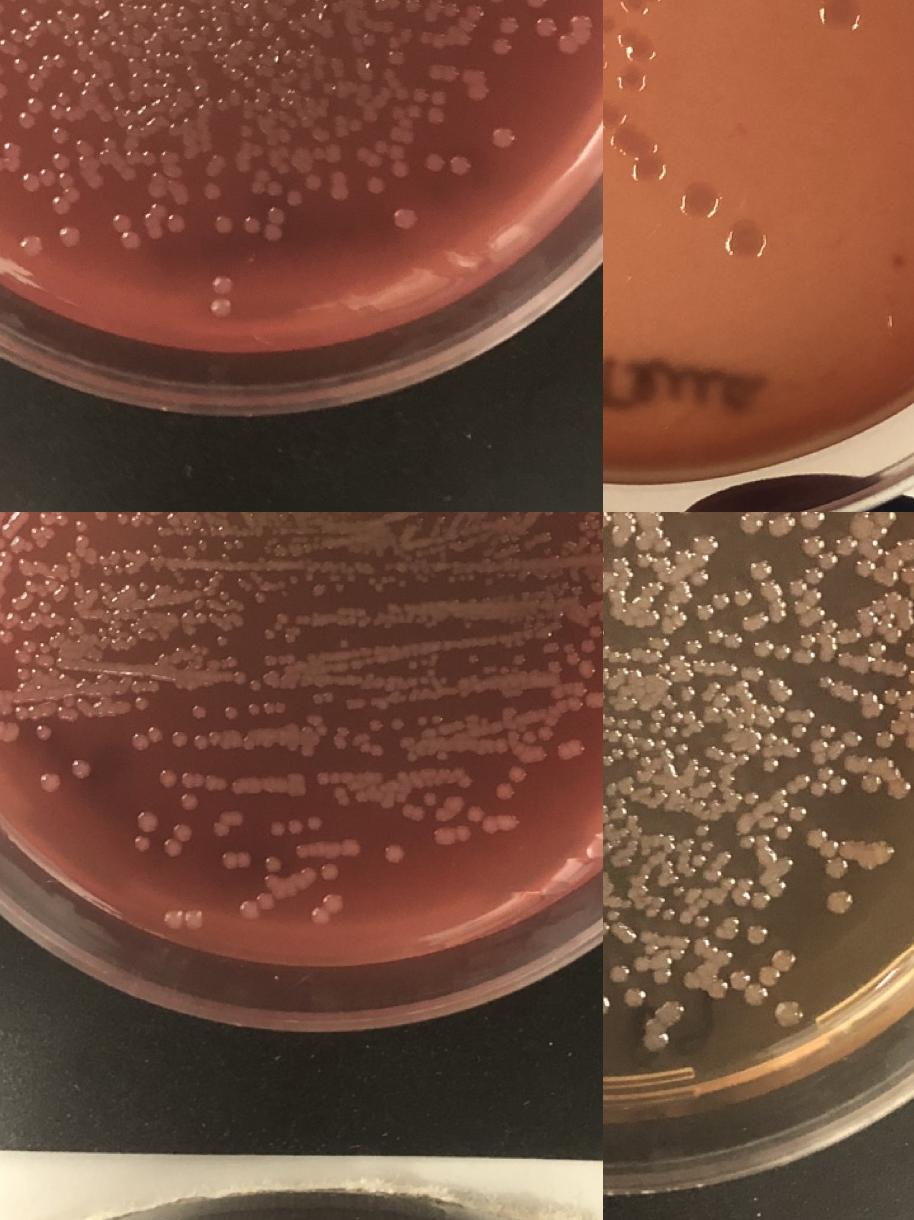sinniae: (798, 531, 914, 587), (741, 948, 800, 1008), (628, 706, 688, 750), (603, 961, 652, 1011), (794, 766, 848, 798), (857, 773, 914, 802), (710, 588, 756, 610), (774, 1000, 809, 1026), (824, 890, 858, 916), (704, 628, 744, 650), (737, 512, 772, 537), (753, 638, 792, 660), (800, 824, 830, 850), (839, 725, 867, 752), (823, 854, 852, 880), (747, 556, 775, 582), (870, 728, 898, 754), (743, 922, 771, 948), (719, 873, 755, 893), (693, 824, 717, 851), (626, 748, 652, 768), (798, 512, 826, 529), (869, 512, 897, 529), (867, 637, 889, 658), (882, 685, 904, 705), (749, 891, 771, 911), (786, 805, 810, 823), (603, 747, 624, 767), (682, 637, 704, 656), (632, 552, 654, 570), (647, 634, 669, 652), (742, 664, 764, 682), (716, 848, 734, 867), (603, 992, 616, 1018), (679, 684, 697, 702), (712, 691, 730, 709), (790, 722, 808, 740), (820, 722, 838, 740), (764, 756, 782, 774), (610, 804, 628, 822), (774, 823, 792, 841), (754, 610, 770, 628), (603, 779, 619, 797), (903, 728, 914, 754), (670, 884, 688, 899), (743, 791, 761, 805), (738, 834, 756, 848), (690, 854, 708, 868), (604, 908, 622, 922), (692, 914, 710, 928), (661, 908, 678, 922), (675, 744, 689, 758), (698, 766, 712, 780), (603, 912, 611, 935), (692, 720, 704, 734), (603, 727, 610, 741)
tmaritimum: (617, 30, 656, 95), (680, 181, 720, 221), (726, 222, 764, 262), (820, 0, 859, 32), (634, 156, 664, 187), (611, 127, 639, 153), (621, 0, 661, 14), (603, 102, 620, 131), (603, 17, 613, 32)
vangil: (372, 630, 524, 672), (243, 206, 286, 242), (445, 4, 484, 41), (374, 142, 410, 179), (559, 14, 592, 54), (247, 167, 286, 199), (111, 214, 142, 252), (164, 824, 191, 857), (312, 894, 342, 922), (130, 727, 164, 751), (213, 811, 244, 837), (568, 654, 598, 680), (463, 68, 487, 100), (428, 89, 448, 126), (483, 814, 517, 833), (328, 170, 348, 202), (234, 670, 262, 692), (247, 701, 288, 716), (220, 851, 251, 870), (427, 64, 459, 82), (557, 740, 584, 760), (40, 601, 62, 624), (182, 540, 211, 556), (454, 766, 473, 789), (130, 680, 160, 694), (50, 126, 70, 146), (3, 140, 23, 160), (424, 154, 444, 174), (203, 159, 223, 179), (367, 176, 387, 196), (286, 189, 306, 209), (50, 196, 70, 216), (395, 208, 415, 228), (168, 214, 188, 234), (59, 226, 79, 246), (24, 234, 44, 254), (214, 275, 234, 295), (334, 786, 352, 808), (20, 173, 40, 192), (203, 183, 223, 202), (212, 298, 231, 318), (0, 722, 19, 742), (214, 214, 232, 234), (35, 725, 53, 744), (42, 772, 60, 791), (586, 690, 603, 710), (0, 0, 21, 16), (70, 11, 88, 29), (536, 18, 554, 36), (12, 57, 30, 75), (26, 74, 44, 92), (494, 128, 512, 146), (452, 156, 470, 174), (192, 734, 210, 752), (72, 760, 90, 778), (160, 769, 178, 787), (420, 790, 438, 808), (400, 804, 418, 822), (435, 828, 453, 846), (240, 900, 258, 918), (166, 911, 184, 929), (186, 911, 204, 929), (330, 57, 344, 80), (140, 812, 156, 832), (501, 18, 518, 36), (493, 38, 511, 55), (18, 4, 34, 22), (0, 628, 16, 646), (311, 692, 335, 704), (192, 704, 208, 722), (224, 704, 240, 722), (171, 730, 187, 748), (134, 696, 150, 713), (180, 772, 196, 789), (387, 847, 403, 864), (180, 794, 196, 810), (269, 820, 285, 836), (289, 820, 305, 836), (456, 826, 472, 842), (343, 840, 359, 856), (321, 864, 337, 880), (258, 894, 274, 910), (361, 646, 374, 665), (580, 640, 596, 655), (510, 768, 526, 783), (448, 797, 464, 812), (467, 806, 483, 821), (266, 857, 282, 872), (308, 815, 322, 832), (136, 835, 150, 852), (192, 644, 210, 657), (498, 784, 512, 800), (405, 0, 422, 13), (0, 37, 12, 55), (74, 520, 88, 534), (76, 534, 90, 548), (276, 612, 290, 626), (466, 652, 480, 666), (264, 654, 278, 667), (512, 654, 526, 667), (389, 718, 403, 731), (538, 727, 552, 740), (522, 732, 536, 745), (114, 512, 128, 524), (150, 544, 164, 556), (25, 580, 39, 592), (98, 580, 112, 592), (85, 588, 99, 600), (10, 598, 24, 610), (550, 662, 564, 674), (416, 715, 430, 727), (368, 720, 382, 732), (316, 725, 330, 737), (300, 747, 314, 759), (216, 636, 228, 649), (323, 81, 335, 93), (0, 82, 8, 100), (355, 95, 367, 107), (349, 120, 361, 132), (18, 558, 30, 570), (264, 629, 276, 641), (284, 633, 296, 645), (431, 0, 443, 11), (527, 0, 545, 7), (0, 155, 4, 174), (489, 0, 507, 4)
